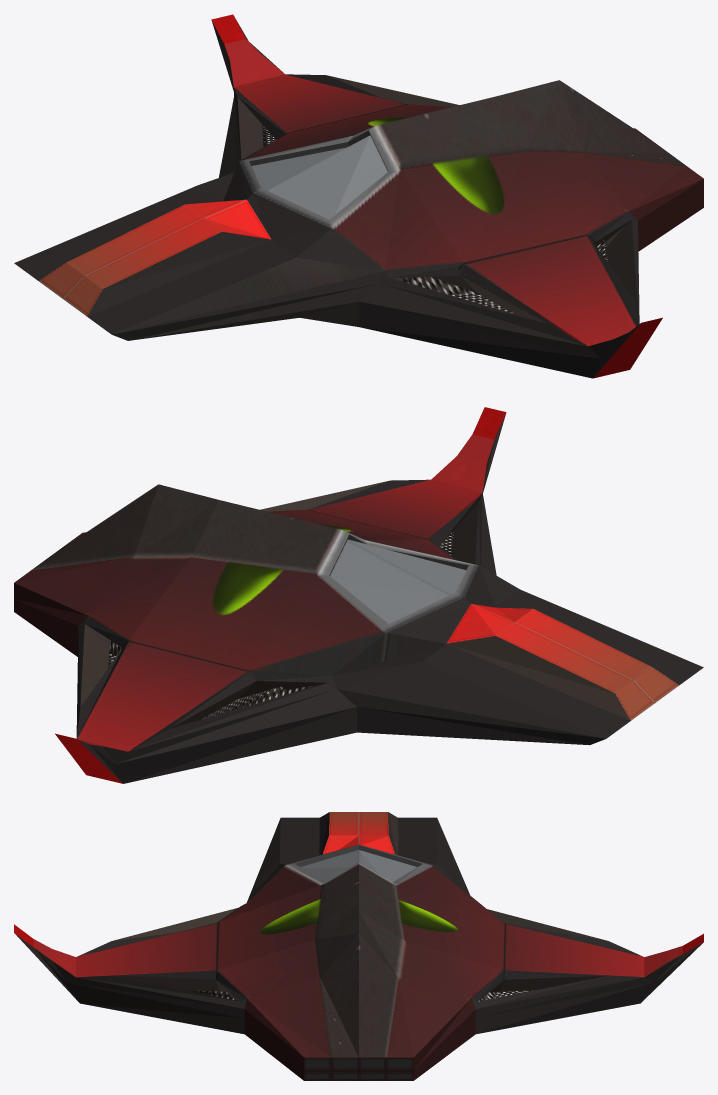
The model's file is Car-Ship.obj.
3 renders of one model, top to bottom at view 1: azimuth 30°, elevation 25°; view 2: azimuth 150°, elevation 25°; view 3: azimuth 270°, elevation 25°, orthographic. The views are drawn at different scales.
Parts seen in each view (by area): view 1: Box001; view 2: Box001; view 3: Box001.
Boxes of the visible parts, x1,y1,x2,y2 form: Box001: [14, 14, 703, 378]; Box001: [14, 407, 703, 783]; Box001: [14, 812, 703, 1080].
Size of the model in its own units: 111 by 26.71 by 136.
1 material, 1 textured.
